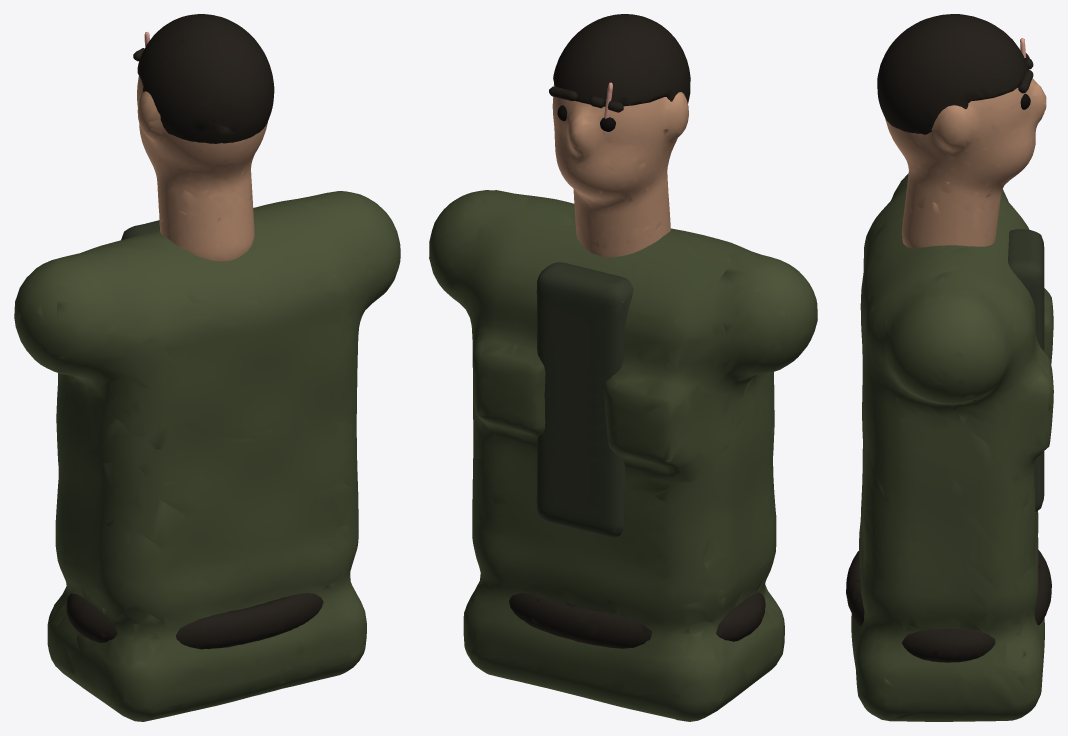
Rendered from guard_body.obj.
3 views of the same model, side by side, from view 1: azimuth 30°, elevation 25°; view 2: azimuth 150°, elevation 25°; view 3: azimuth 270°, elevation 25° (orthographic).
Visible parts, largest first — view 1: top, hair, skin, extra; view 2: top, under, skin, hair, extra, brows; view 3: top, skin, hair, extra, under.
Part boxes in pixels (bbox=[...]): top: bbox=[14, 191, 400, 721]; hair: bbox=[137, 14, 274, 143]; skin: bbox=[137, 76, 267, 261]; extra: bbox=[66, 593, 323, 649]; top: bbox=[429, 190, 817, 721]; under: bbox=[536, 262, 633, 537]; skin: bbox=[552, 84, 688, 257]; hair: bbox=[553, 14, 690, 106]; extra: bbox=[509, 592, 765, 648]; brows: bbox=[549, 86, 623, 112]; top: bbox=[851, 173, 1053, 721]; skin: bbox=[885, 78, 1046, 247]; hair: bbox=[877, 14, 1028, 134]; extra: bbox=[846, 550, 1051, 662]; under: bbox=[1008, 229, 1044, 511].
Bounding box in the file's own units: 0.5735 × 0.9683 × 0.2788.
